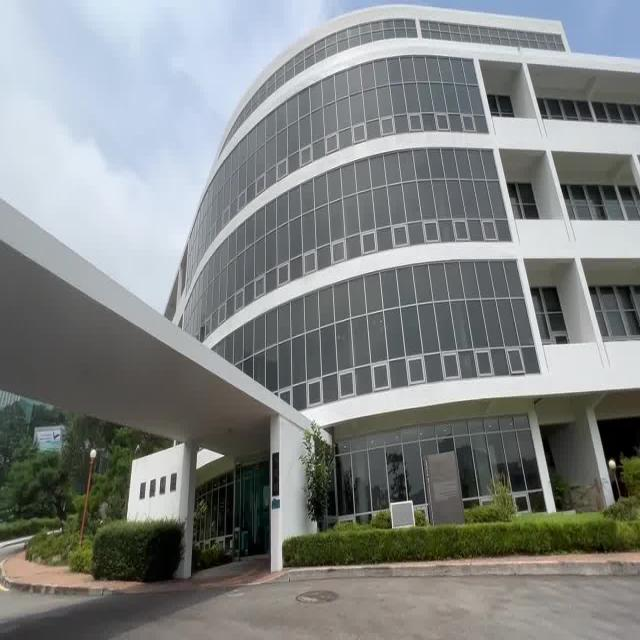building: (231, 19, 630, 420)
